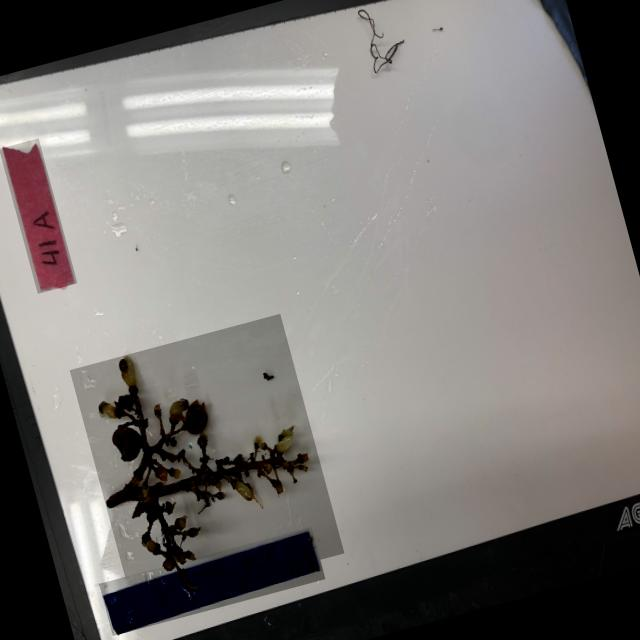index: (0, 136, 76, 292)
measure_label: (98, 526, 324, 634)
rachis_cluster: (70, 312, 344, 608)
